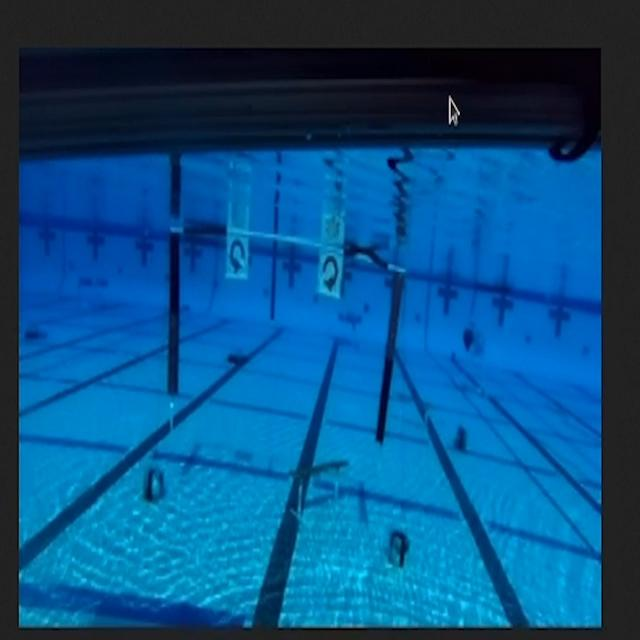Gate: (157, 213, 416, 457)
Path: (275, 434, 353, 526)
